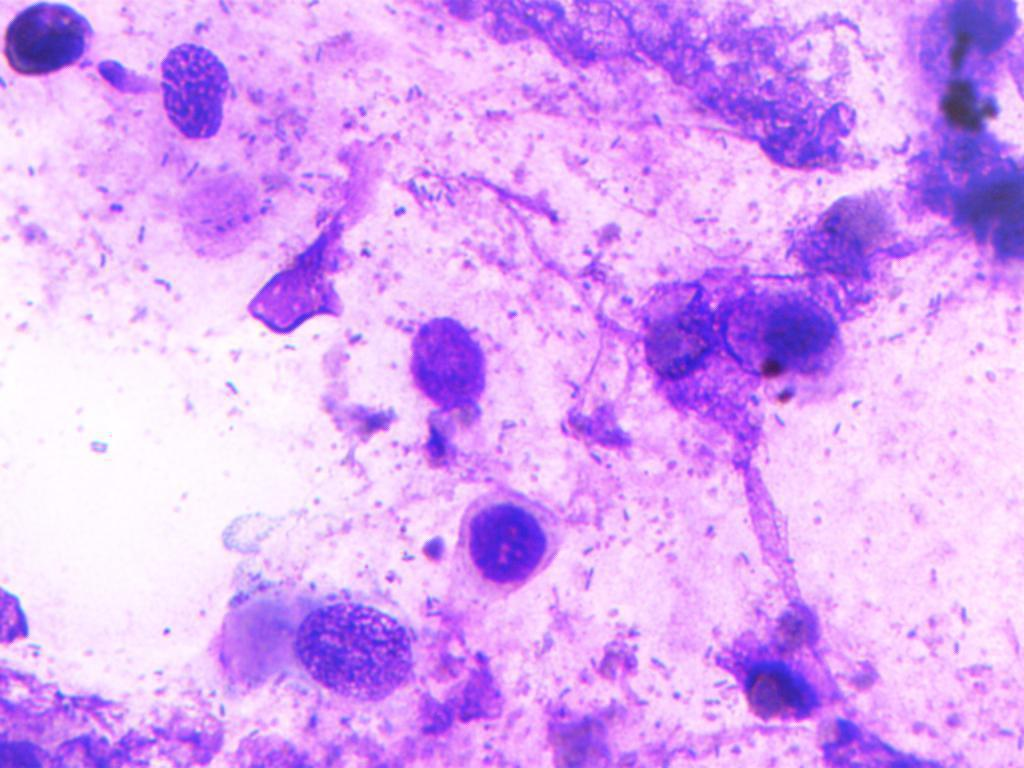artifact: (236, 211, 364, 346), (778, 187, 909, 318), (922, 151, 1024, 293), (922, 2, 1024, 137)
epithelial: (198, 567, 424, 711), (375, 295, 516, 454), (441, 476, 573, 636), (721, 279, 859, 391), (618, 272, 721, 403), (729, 635, 831, 732), (156, 27, 233, 155)
metaplastic: (0, 0, 116, 89)
